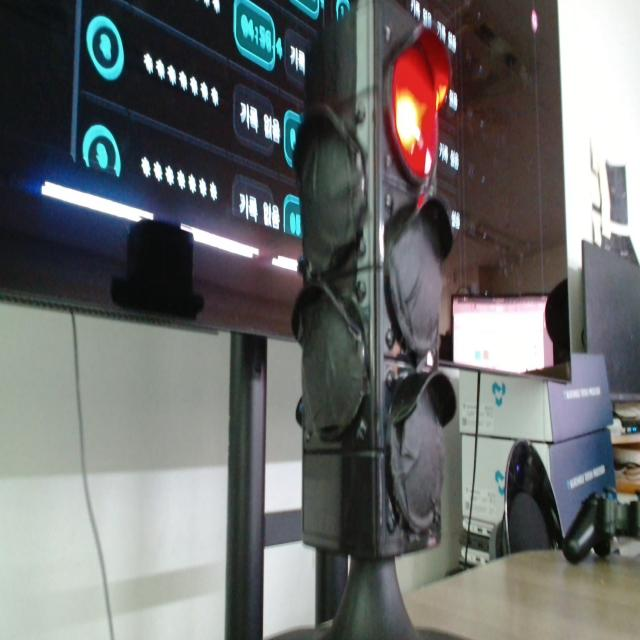red_light: (392, 32, 450, 180)
